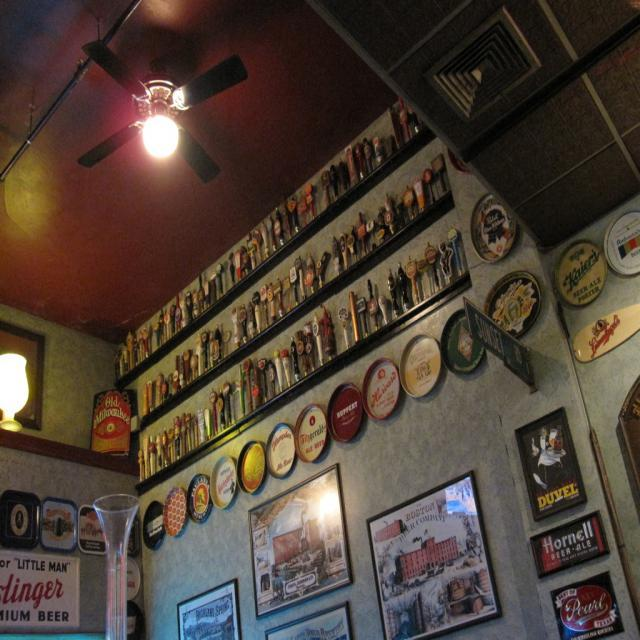bulb_on: (142, 109, 178, 163)
fan_off: (80, 35, 241, 180)
